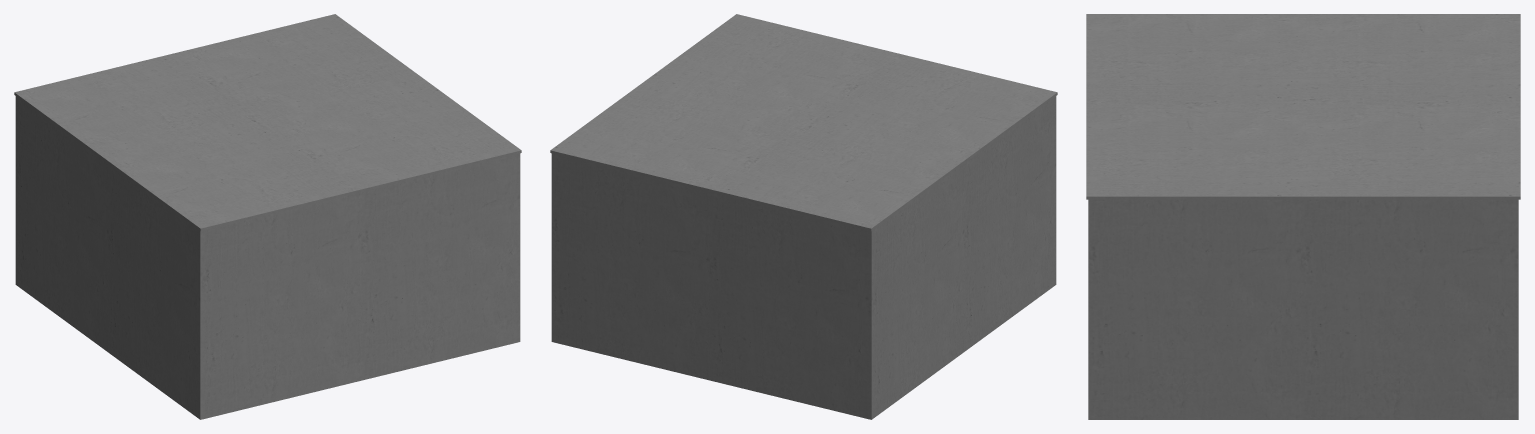
File: Final Room.fbx
3 views of the same model, side by side, from view 1: azimuth 30°, elevation 25°; view 2: azimuth 150°, elevation 25°; view 3: azimuth 270°, elevation 25° (orthographic). The views are drawn at different scales.
Parts seen in each view (by area): view 1: Plane, Plane.002; view 2: Plane, Plane.002; view 3: Plane, Plane.002.
Part boxes in pixels (left/top/right/bottom): Plane: left=15, top=96, right=520, bottom=419; Plane.002: left=14, top=14, right=521, bottom=231; Plane: left=551, top=96, right=1056, bottom=419; Plane.002: left=550, top=14, right=1057, bottom=231; Plane: left=1088, top=199, right=1518, bottom=419; Plane.002: left=1086, top=14, right=1520, bottom=199.
Bounding box in the file's own units: 402 × 230 × 404.
